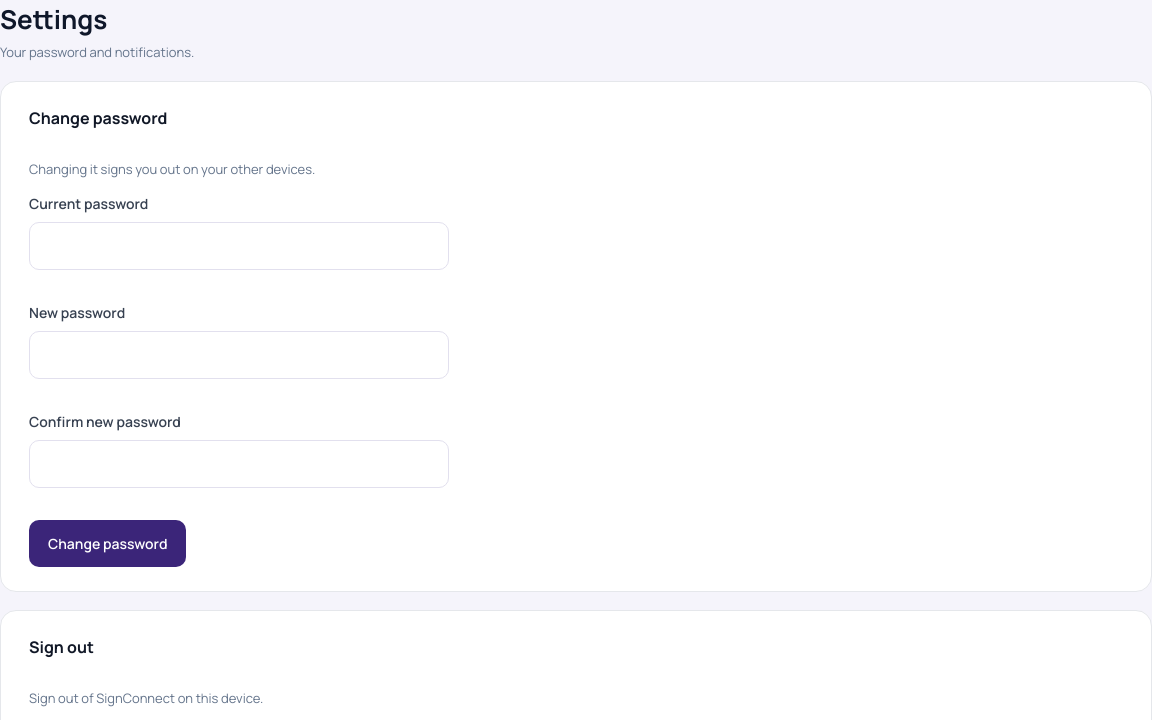
Test: StaffSettingsPage › changes the password and stores the fresh session
Type "OldPass!1" into the password field labelled "Current password" at (239, 246), box [29,222,449,270]
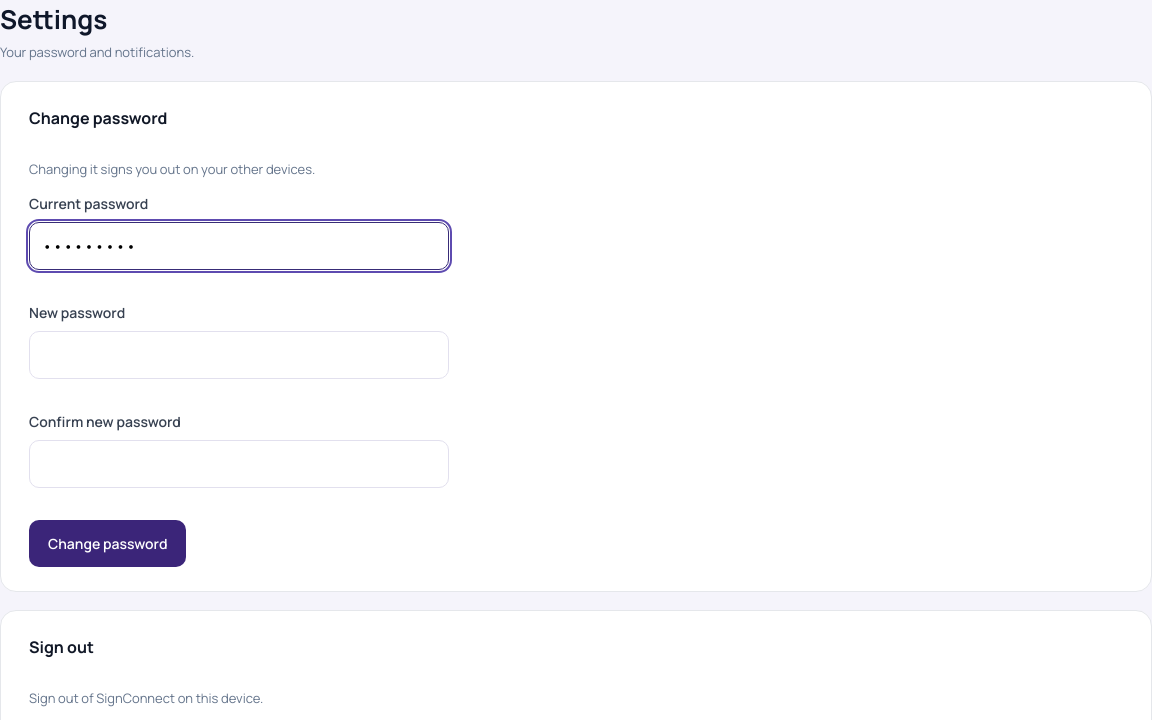
Type "Str0ng!Passw0rd#" into the password field labelled "New password" at (239, 355), box [29,331,449,379]
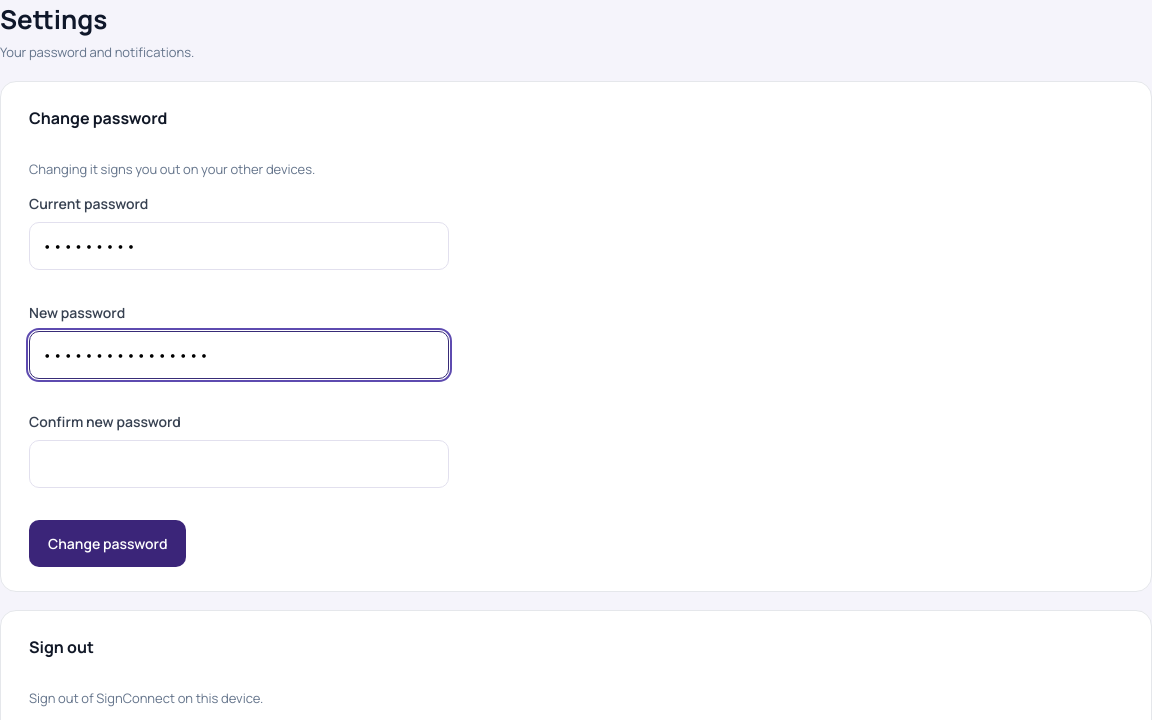
Type "Str0ng!Passw0rd#" into the password field labelled "Confirm new password" at (239, 464), box [29,440,449,488]
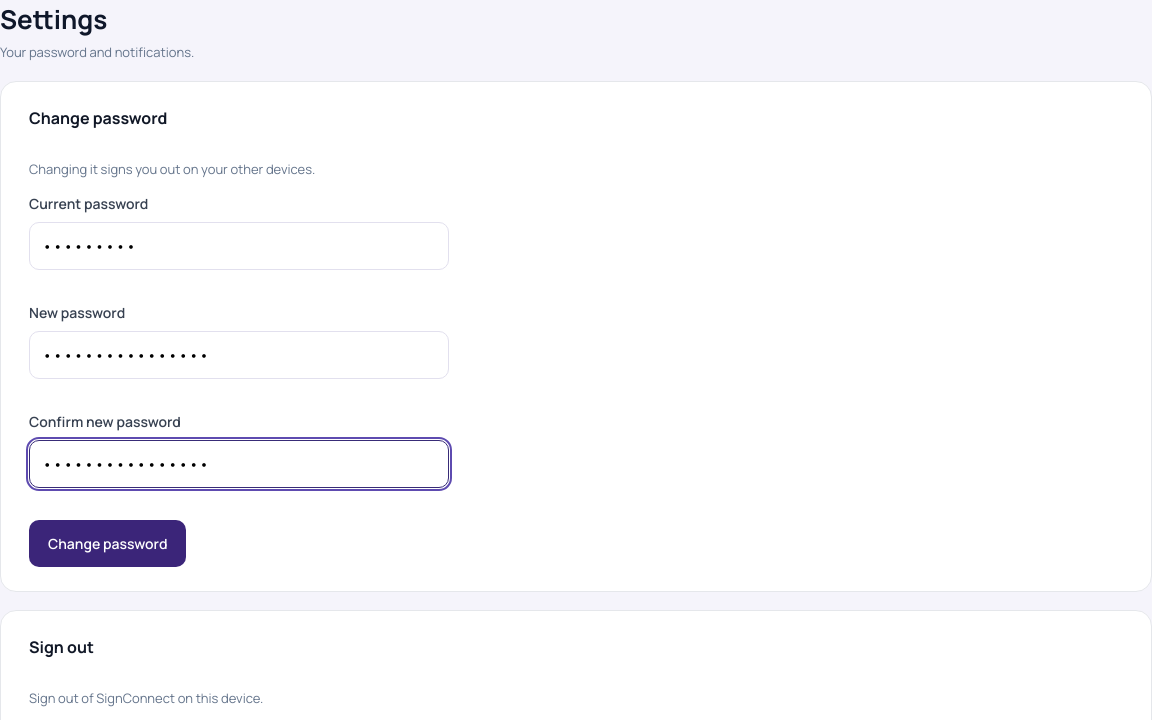
Click the button "Change password" at (108, 544), box [29,520,186,567]
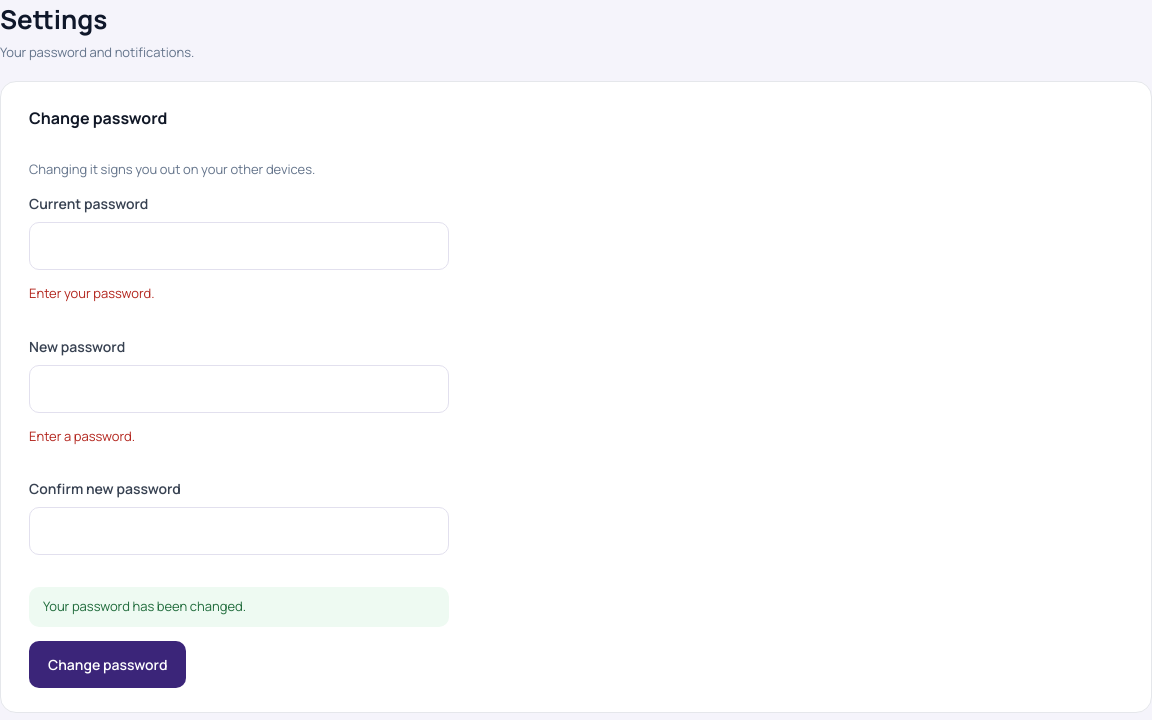
Now the text "Your password has been changed." is shown, box [29,587,449,626]
